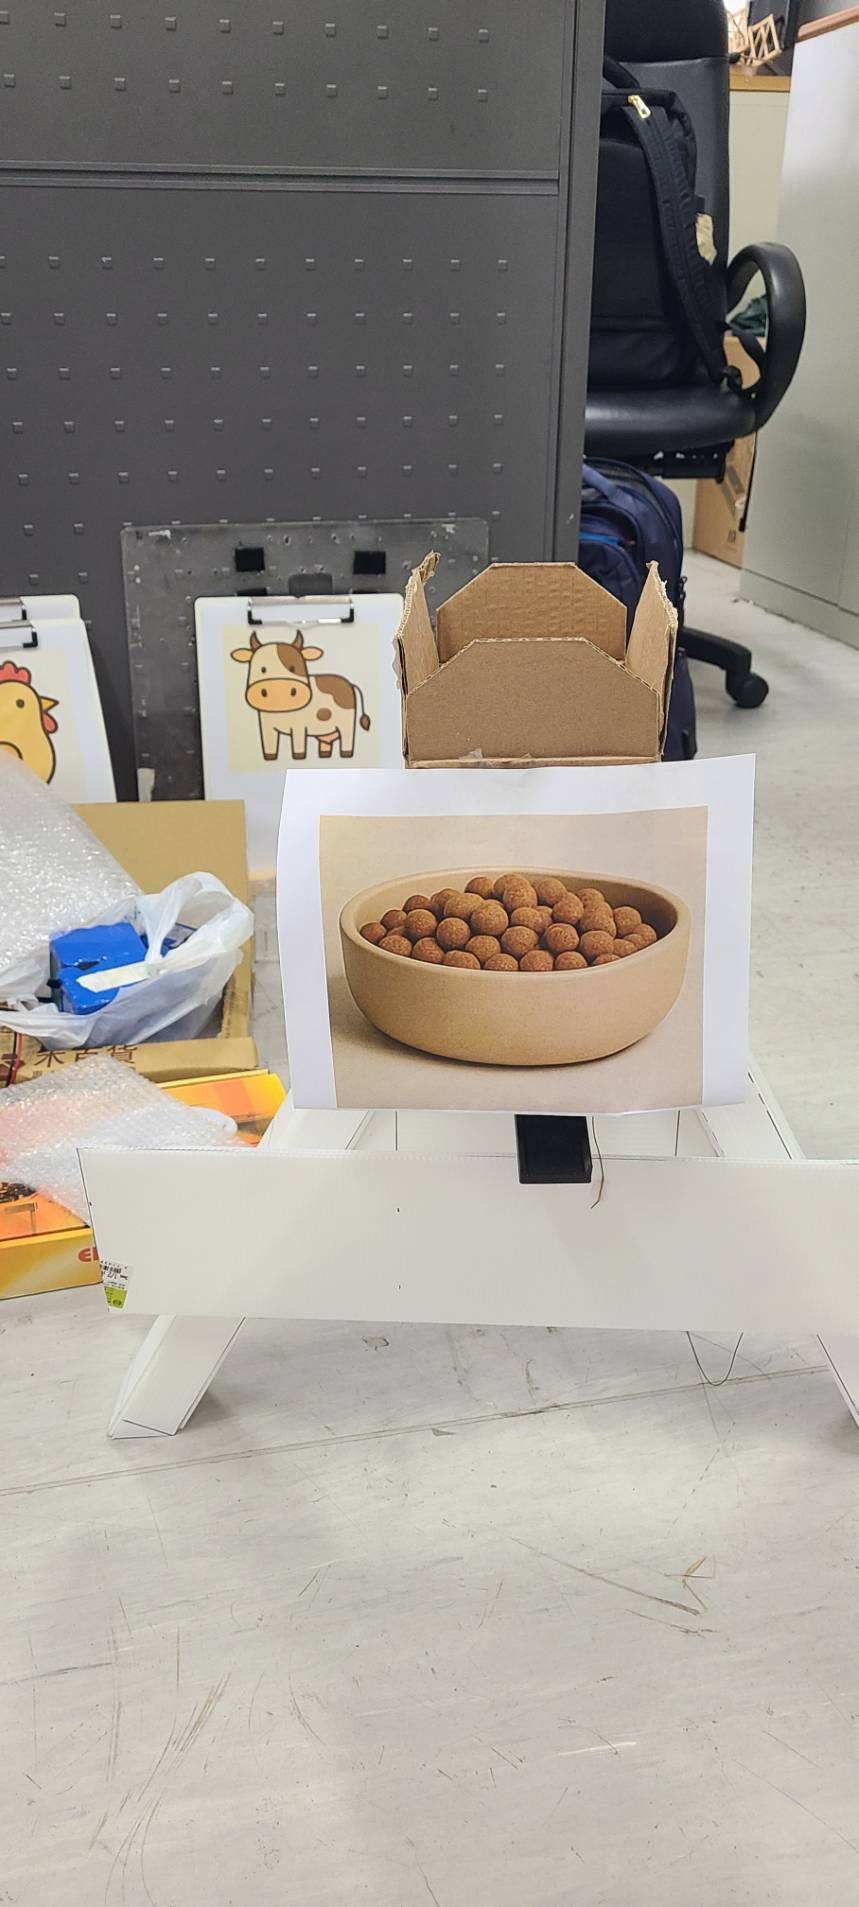machine: (333, 866, 691, 1061)
